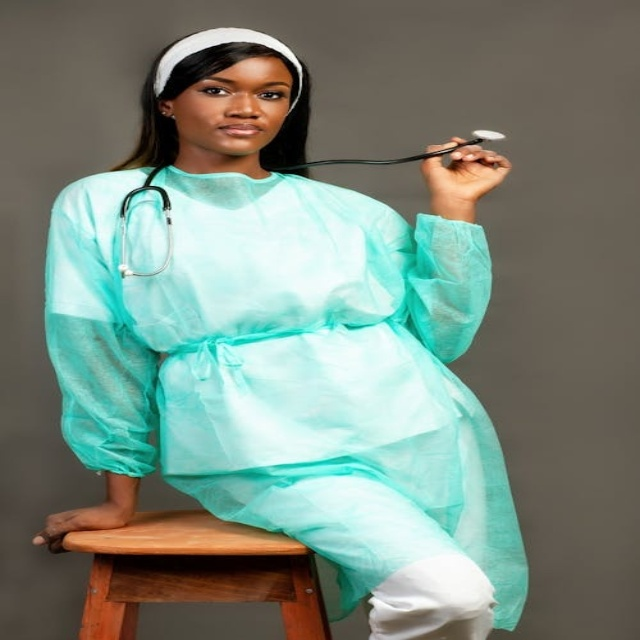Sin_gafas: (196, 75, 285, 108)
Sin_guantes: (22, 492, 142, 560), (415, 131, 520, 206)
Sin_mascara: (204, 119, 271, 143)
